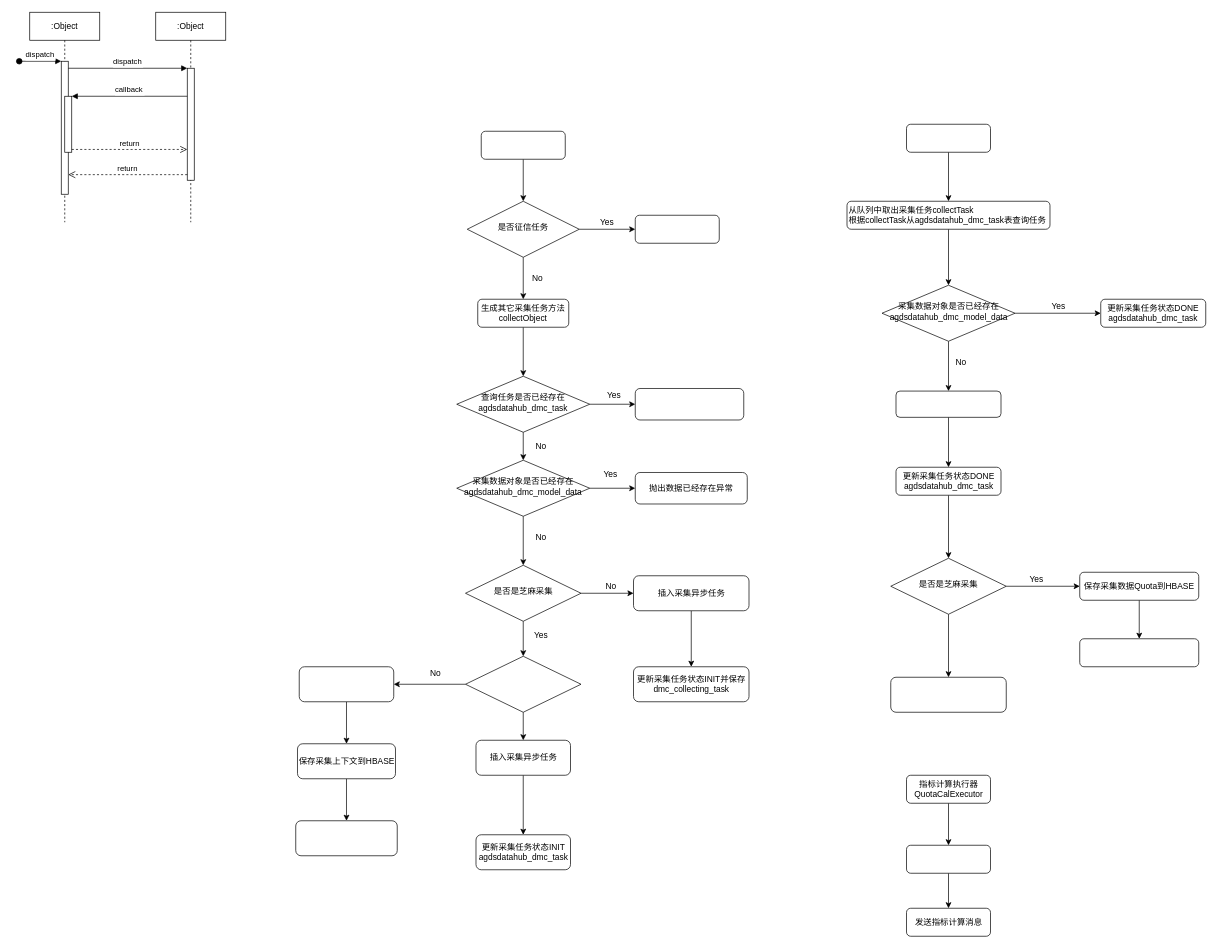
Image size: 1218x949. Some labels were removed from this diagram. Here are the shapes that lost their labels. From the top down, the centre of each, then its label:
(x=523, y=145): 采集接口(异步) collectObject
(x=948, y=138): 采集执行器 NormalDmcExecutor
(x=677, y=229): 征信采集方法doCreditCollect
(x=689, y=404): 返回
(x=948, y=403): 存储采集信息 agdsdatahub_dmc_model_data
(x=1139, y=652): 发送采集完成事件
(x=346, y=684): 保存一阶段采集TASK agdsdatahub_dmc_task
(x=523, y=684): HBASE是否有数据并进行验证
(x=948, y=694): 插入指标计算任务
(x=346, y=838): 发送芝麻证的验证事件
(x=948, y=859): 取出指标计算任务
